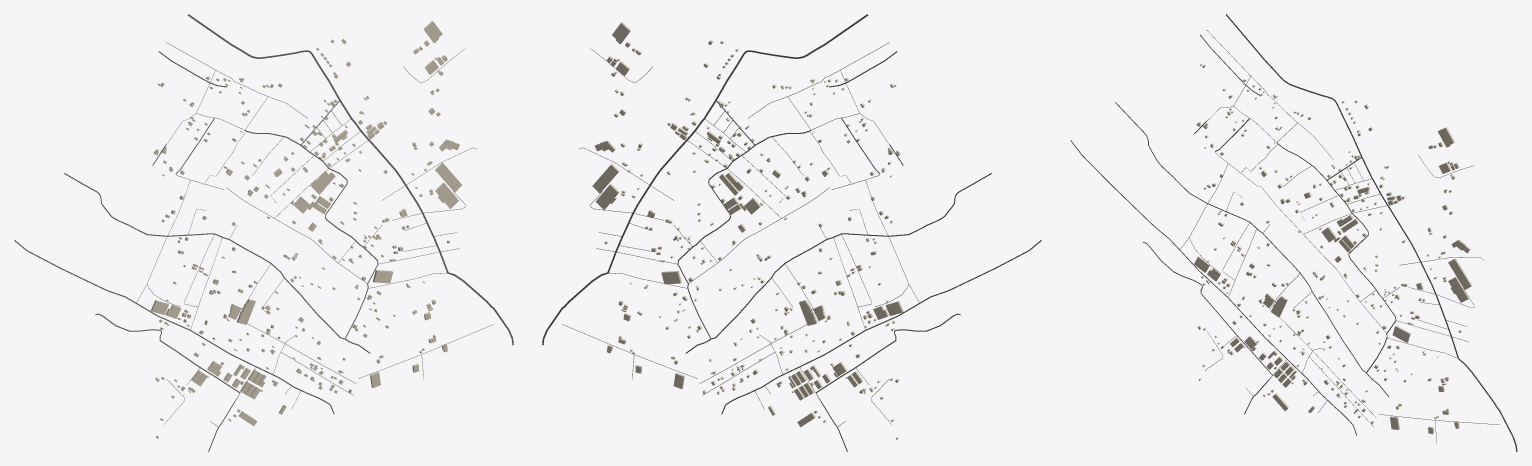
Rendered from historic-palestine-01_19_3431_3139.glb.
The picture shows the model from 3 angles, left to right: view 1: azimuth 30°, elevation 25°; view 2: azimuth 150°, elevation 25°; view 3: azimuth 330°, elevation 25°; orthographic projection. The views are drawn at different scales.
Visible parts, largest first — view 1: Road .013, Road .023, Road .020; view 2: Road .013, Road .023, Road .020; view 3: Road .013, Road .020, Road .023.
Boxes of the visible parts, x1,y1,x2,y2 form: Road .013: (187, 14, 513, 345); Road .023: (64, 173, 369, 353); Road .020: (14, 240, 334, 414); Road .013: (542, 14, 868, 345); Road .023: (686, 173, 991, 353); Road .020: (721, 240, 1041, 414); Road .013: (1226, 14, 1517, 451); Road .020: (1070, 140, 1356, 435); Road .023: (1115, 102, 1388, 396).
Bounding box in the file's own units: 1619 × 1371 × 8.7.
